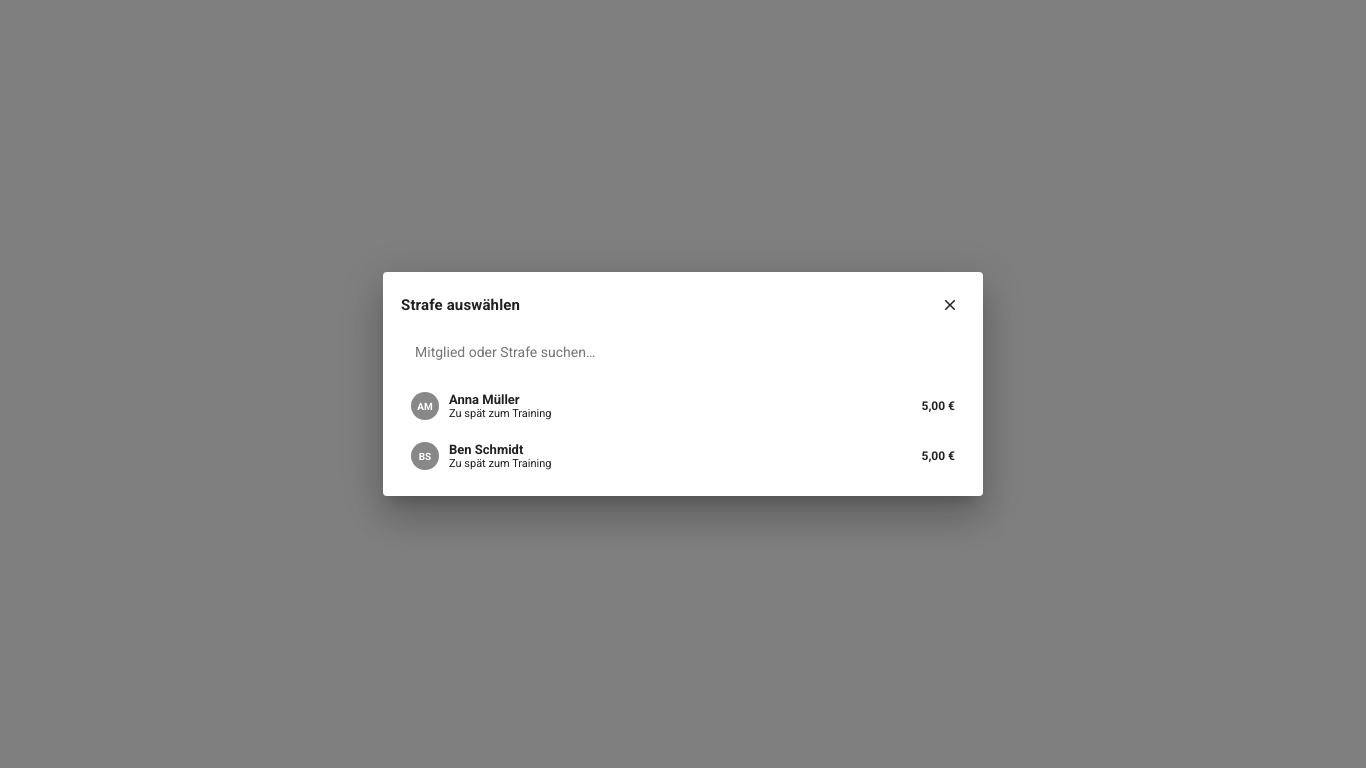
Scenario: PenaltyLinkDialog › filters by search text
In the field with placeholder "Mitglied oder Strafe suchen…": (683, 352) [401,332,965,372], type "Anna"
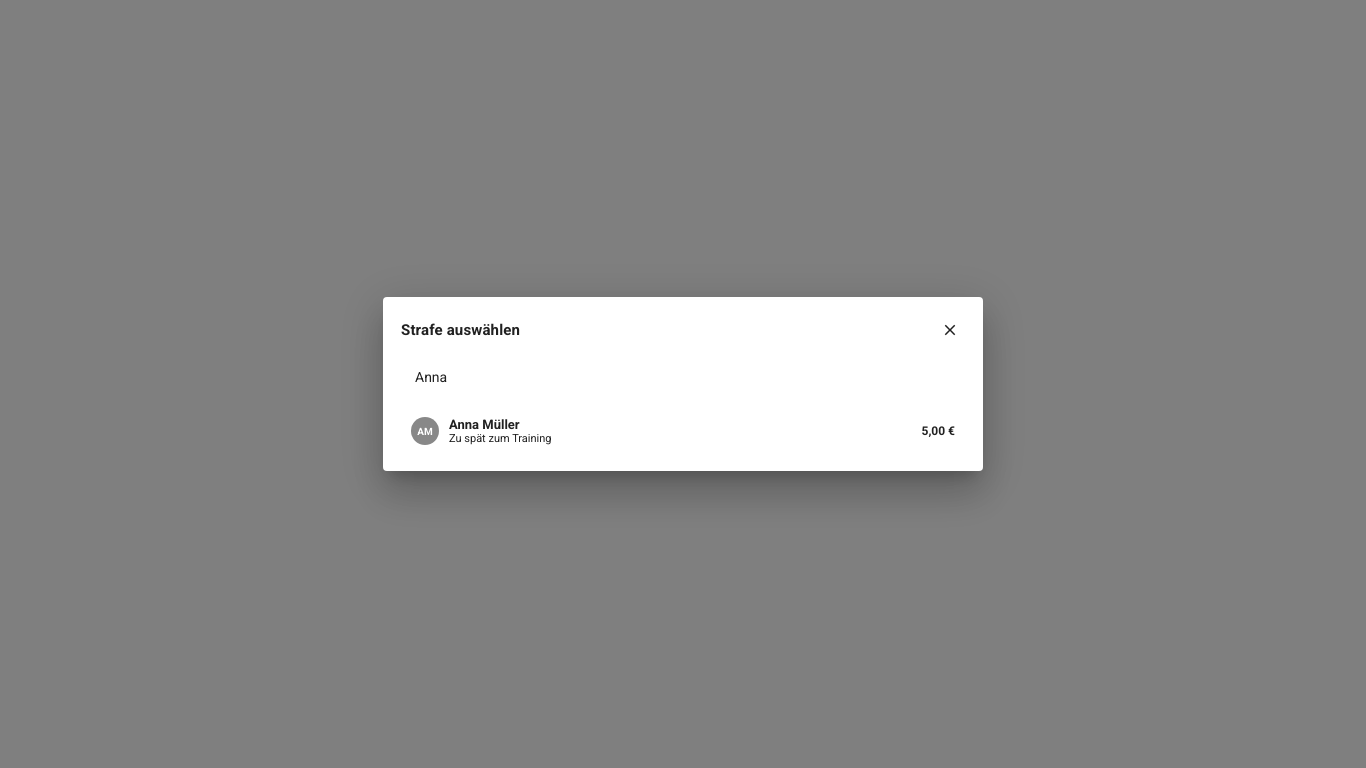
Expected: the text "Anna Müller" is shown, [449,417,520,432]
Result: the option "Ben Schmidt" is gone
